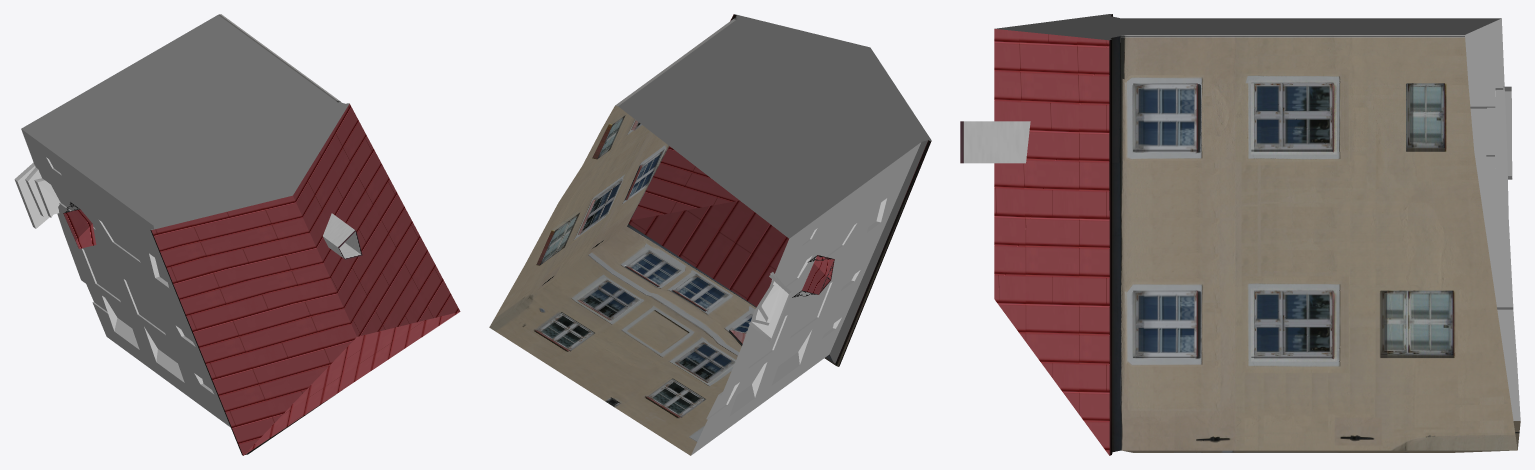
The model's file is Lossi_plats_6-origo.obj.
The picture shows the model from 3 angles, left to right: view 1: azimuth 30°, elevation 25°; view 2: azimuth 150°, elevation 25°; view 3: azimuth 270°, elevation 25°; orthographic projection. The views are drawn at different scales.
Visible parts, largest first — view 1: Lossi_plats_6; view 2: Lossi_plats_6; view 3: Lossi_plats_6.
Part boxes in pixels (x1,y1,x2,y2): Lossi_plats_6: [14, 14, 460, 455]; Lossi_plats_6: [489, 14, 931, 455]; Lossi_plats_6: [960, 14, 1520, 455].
Bounding box in the file's own units: 12.38 × 12.5 × 13.53.
